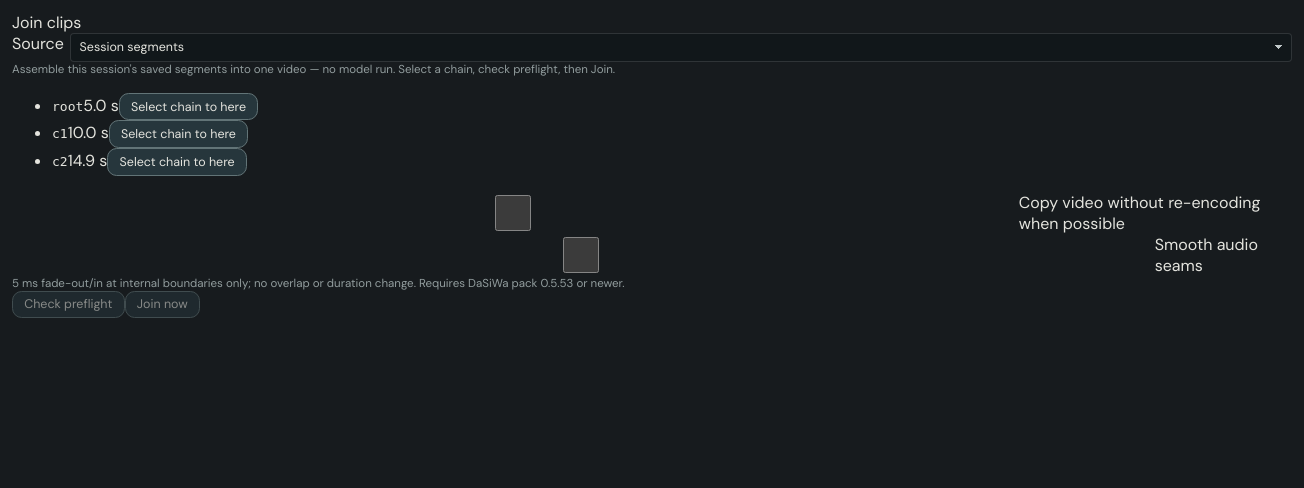
Test case: chain to here walks parents, preflight gates Join, Join submits the pinned h3-join intent and shows the file
The width and height of the screenshot is (1304, 488).
Click the button "Select chain to here" in the row of "c2" at {"x": 177, "y": 162}, box [107, 148, 247, 176]
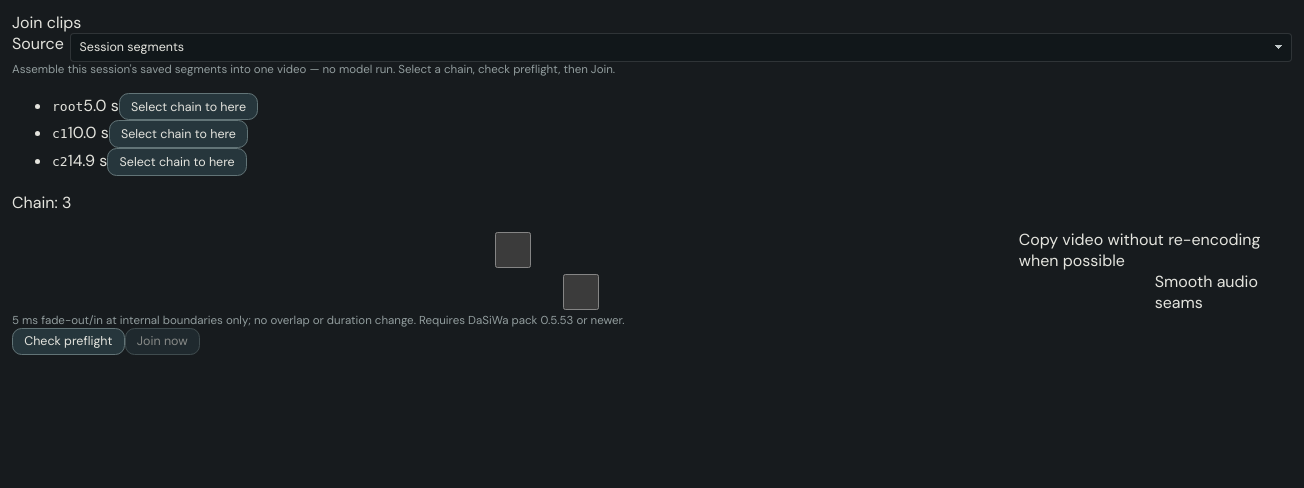
Expected: the button "Join now" is disabled, [125, 328, 200, 355]
Expected: the text "Chain: 3" is shown, [12, 192, 71, 213]
Click the button "Check preflight" at {"x": 68, "y": 341}, box [12, 328, 125, 355]
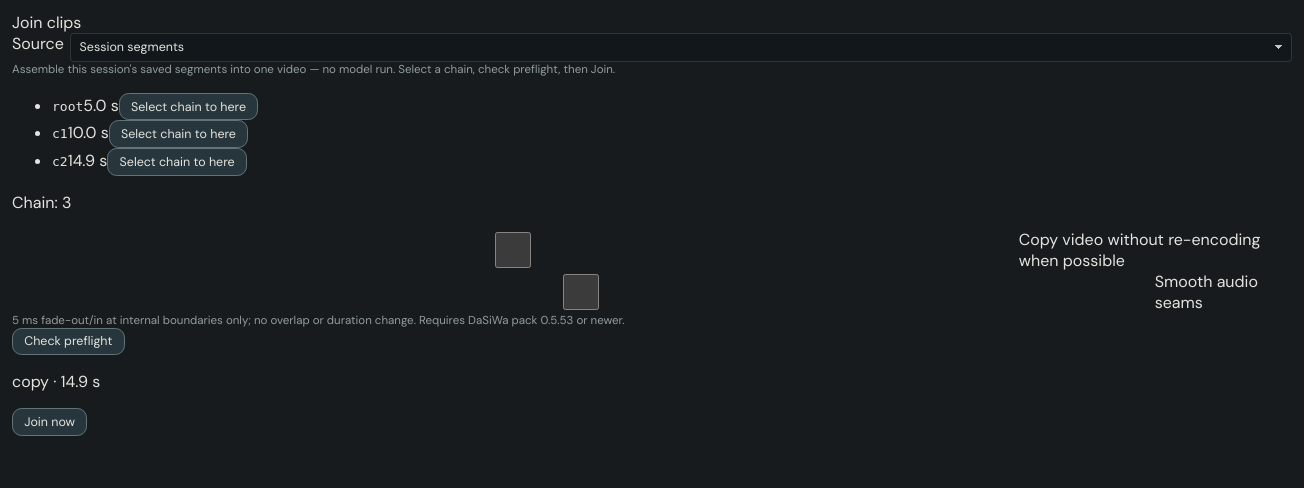
Expected: the text "copy · 14.9 s" is shown, [12, 371, 100, 392]
Expected: the button "Join now" is enabled
Click the button "Join now" at {"x": 50, "y": 422}, box [12, 408, 87, 436]
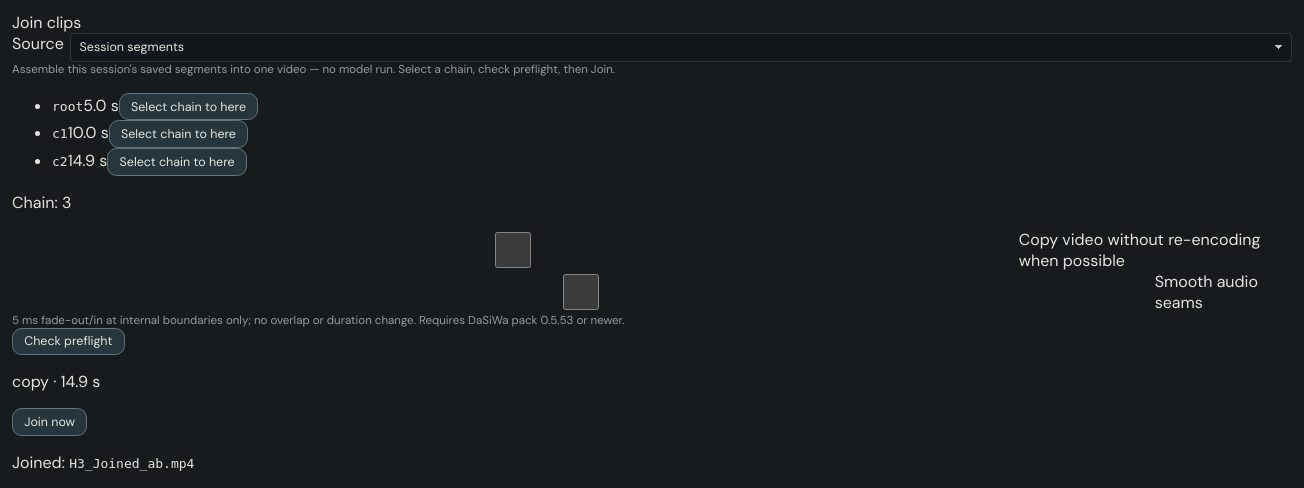
Expected: the text "H3_Joined_ab.mp4" is shown, [69, 456, 194, 471]
